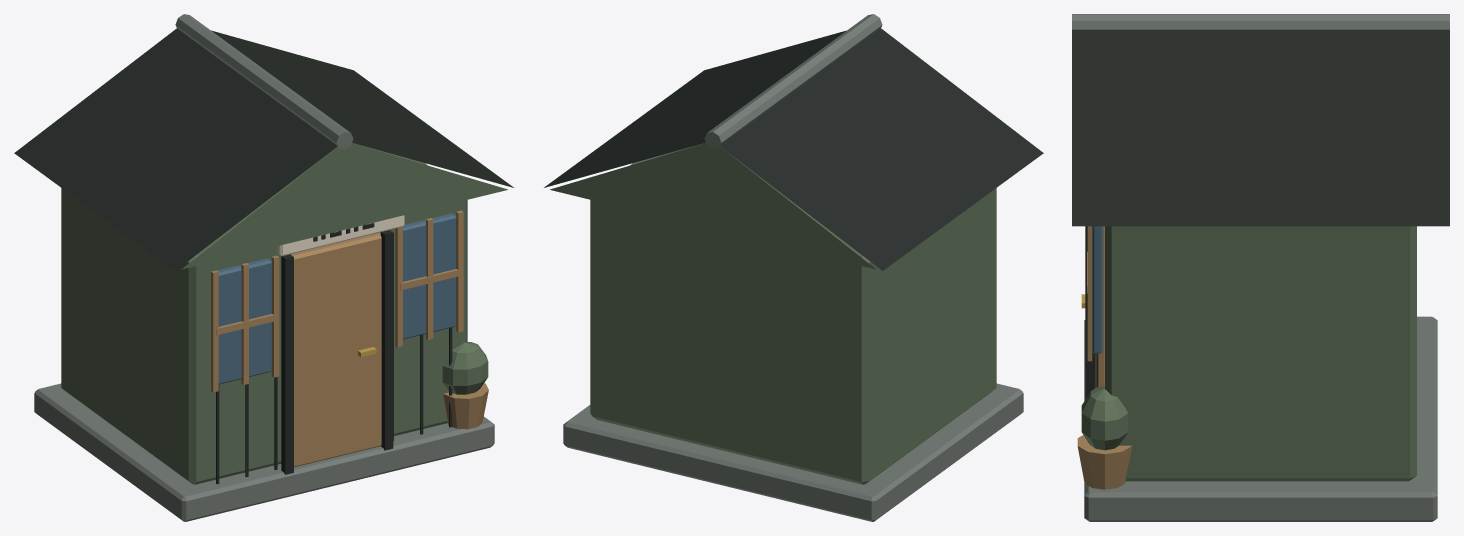
Rendered from garden-shed.glb.
The picture shows the model from 3 angles, left to right: view 1: azimuth 30°, elevation 25°; view 2: azimuth 150°, elevation 25°; view 3: azimuth 270°, elevation 25°; orthographic projection. The views are drawn at different scales.
Visible parts, largest first — view 1: garden-shed; view 2: garden-shed; view 3: garden-shed.
Boxes of the visible parts, <box> form: garden-shed: <box>14,14,513,521</box>; garden-shed: <box>544,14,1043,521</box>; garden-shed: <box>1072,14,1449,521</box>.
Size of the model in its own units: 2.8 by 2.82 by 2.3.
